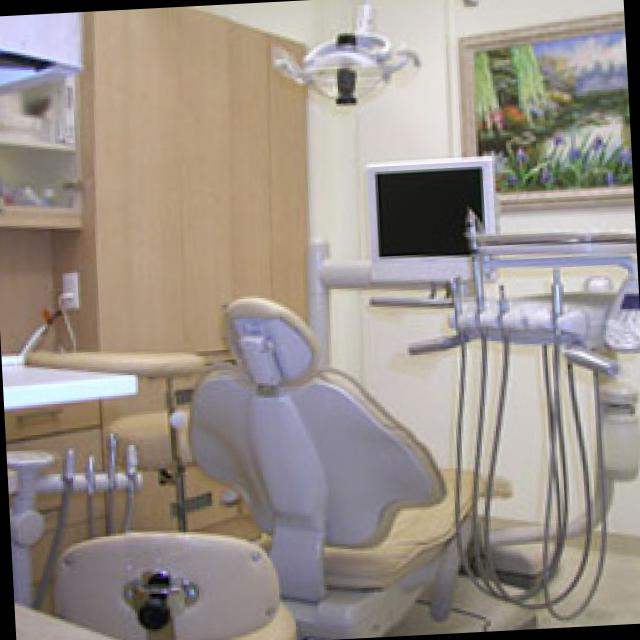chair part: (50, 528, 277, 640)
dental chair: (186, 292, 558, 632)
equipment: (308, 153, 637, 485)
floor -X: (13, 455, 640, 640)
lamp crop: (271, 0, 417, 101)
picture of flag: (458, 9, 629, 206)
screen occluded: (372, 169, 477, 254)
socket: (56, 270, 76, 306)
wall clock: (0, 0, 325, 583), (308, 0, 640, 531)
